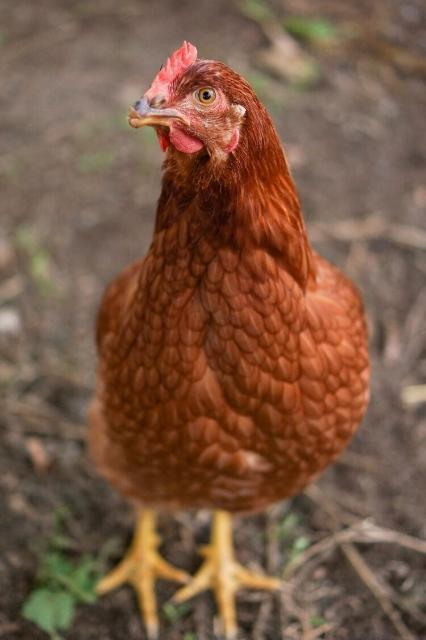Chicken: (92, 37, 373, 640)
